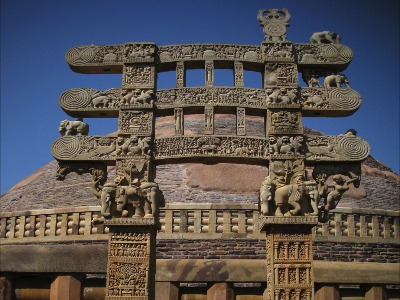torana: (55, 28, 362, 263)
